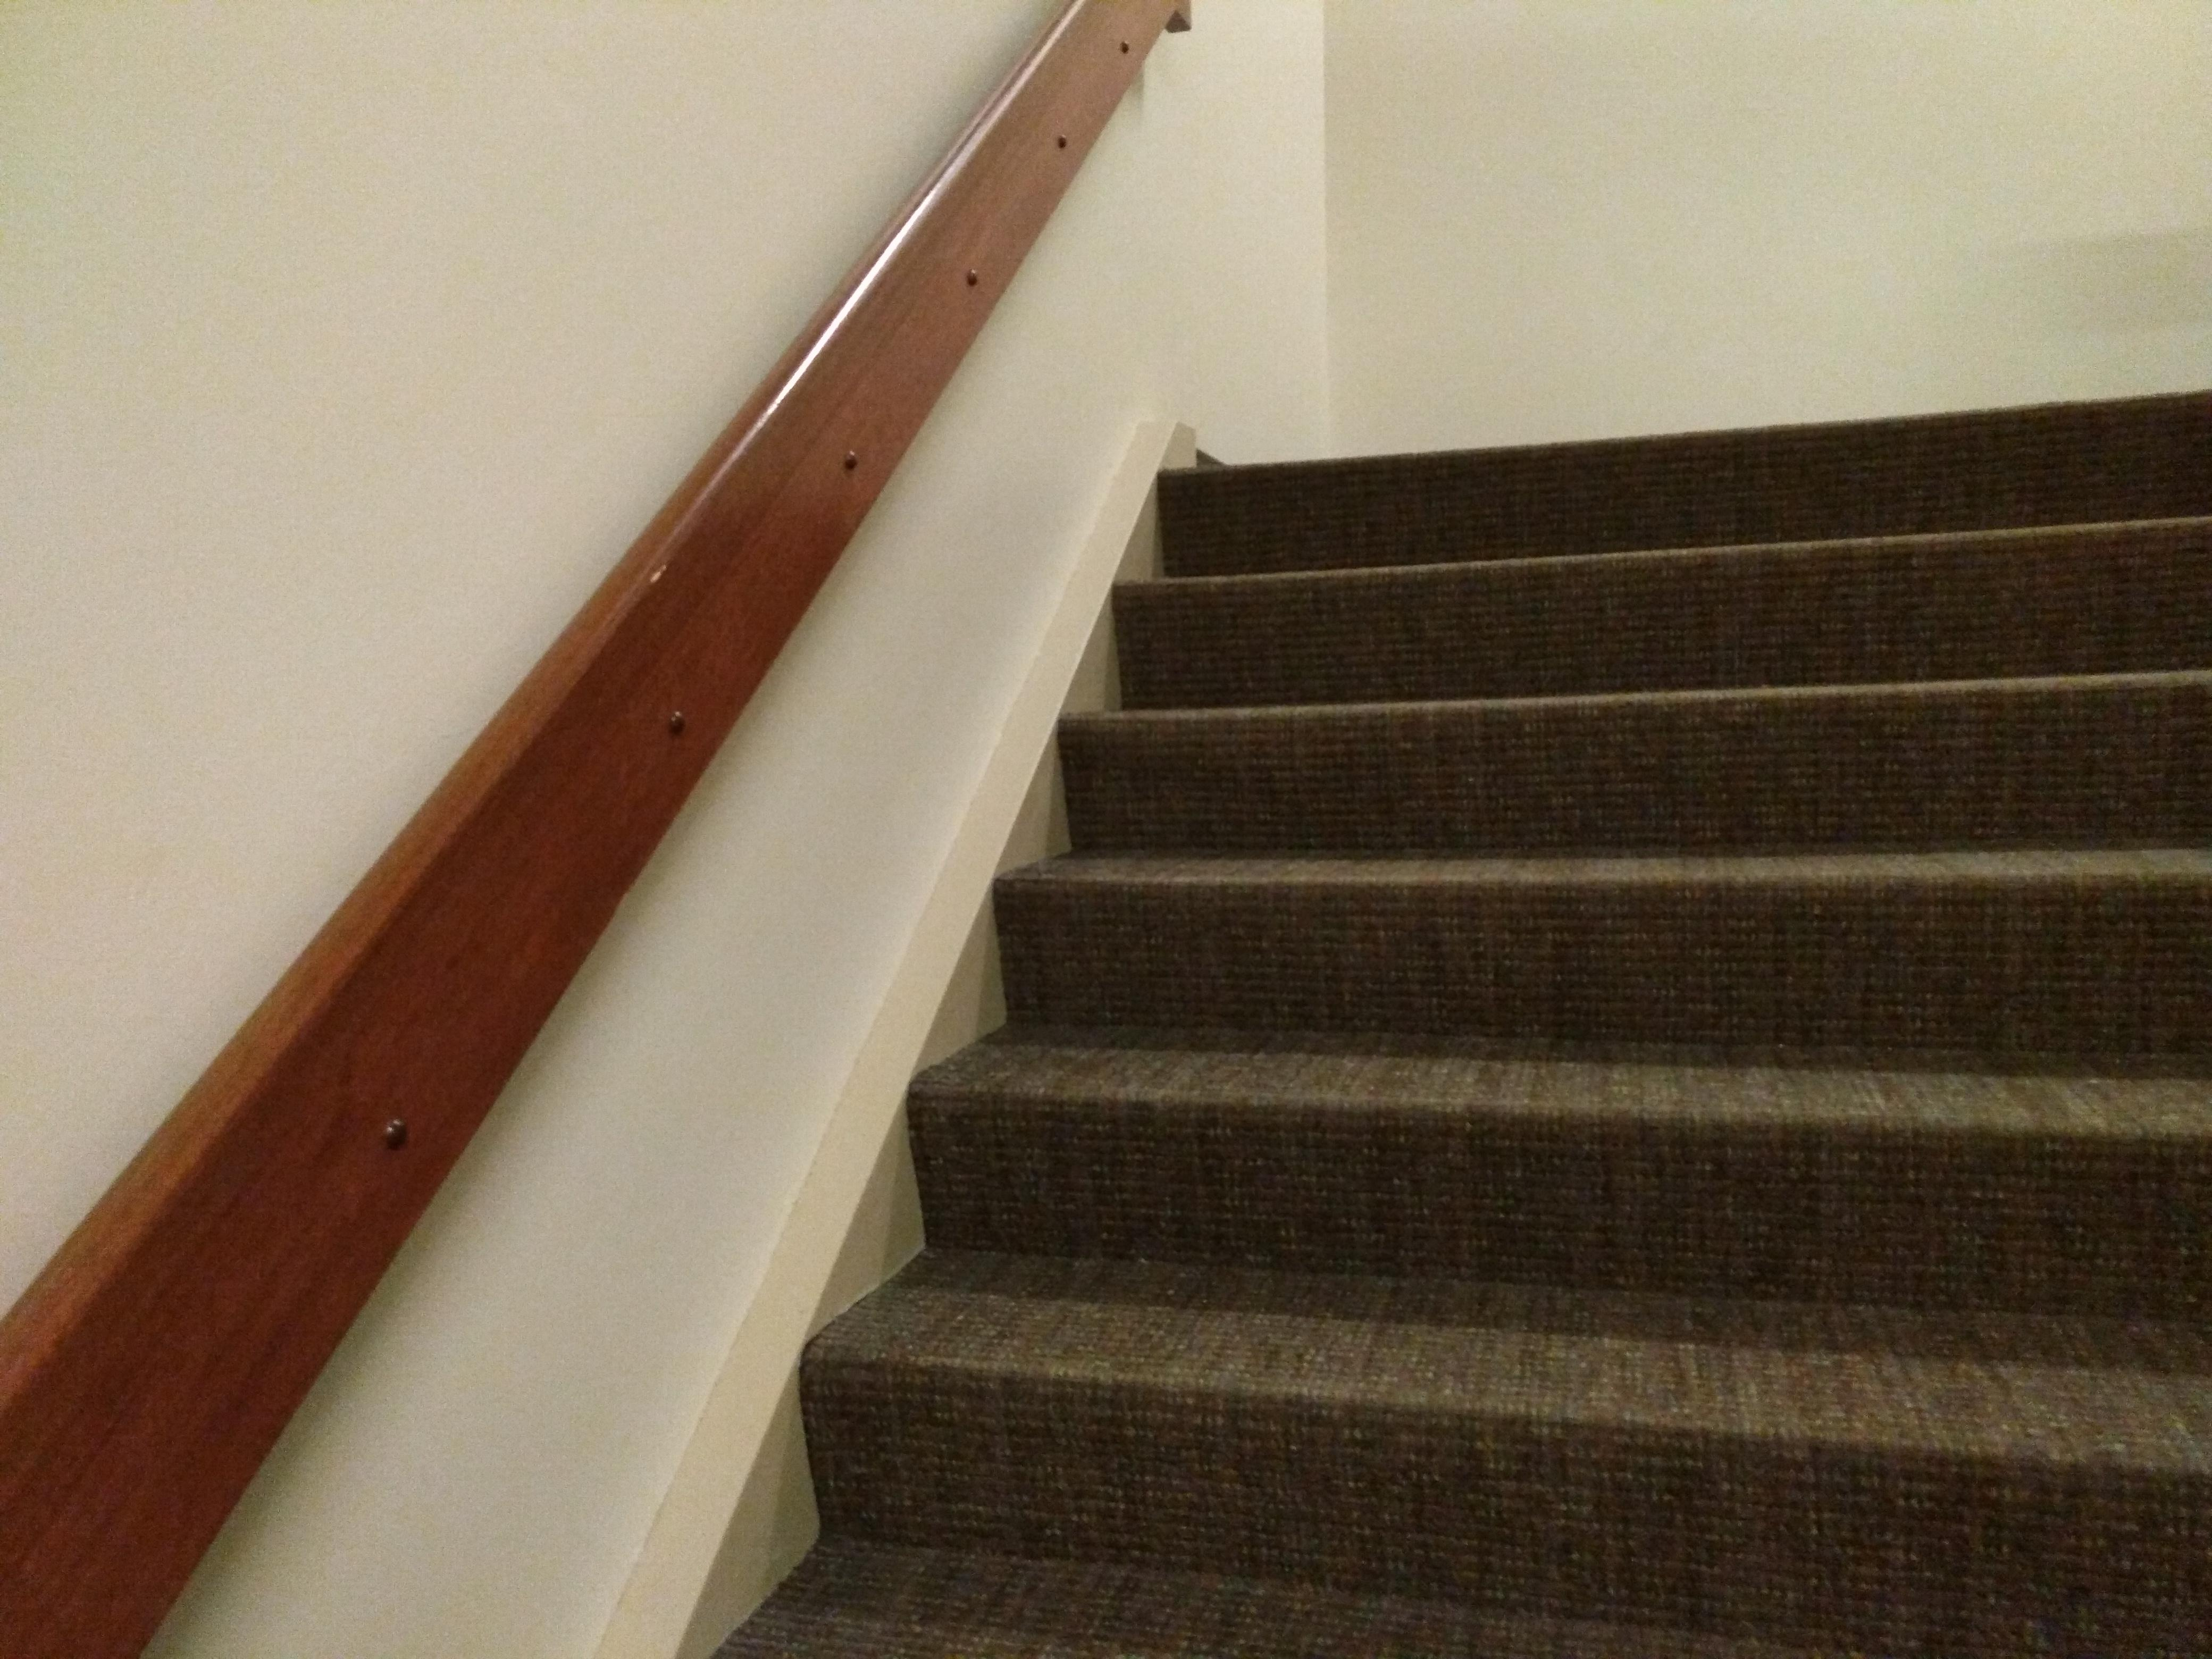stairs_up: (744, 373, 2212, 1657)
